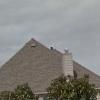Chimney: (54, 42, 85, 77)
